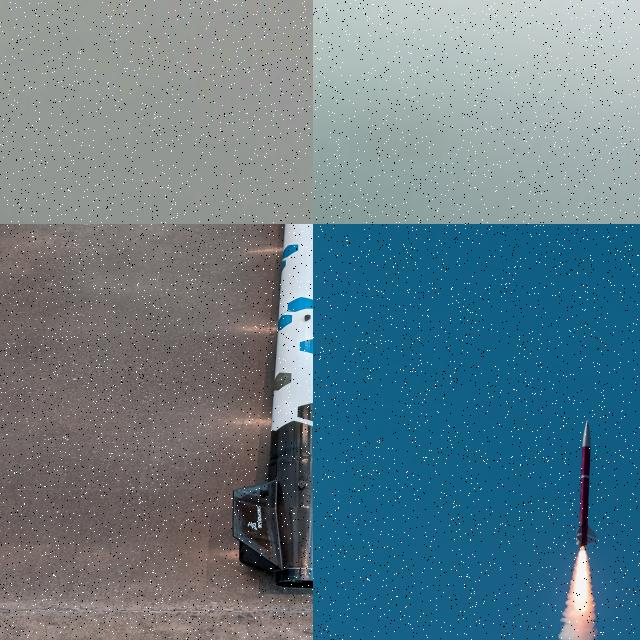Rocket: (232, 224, 313, 590), (574, 418, 598, 548)
